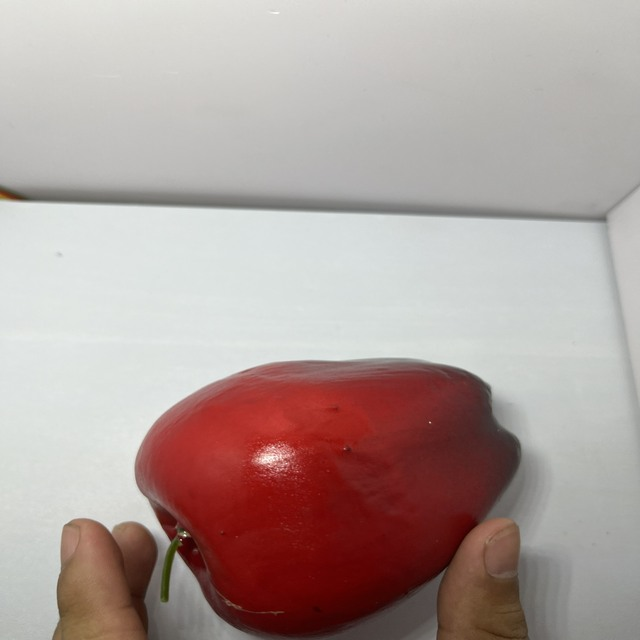Tao: (122, 344, 536, 640)
